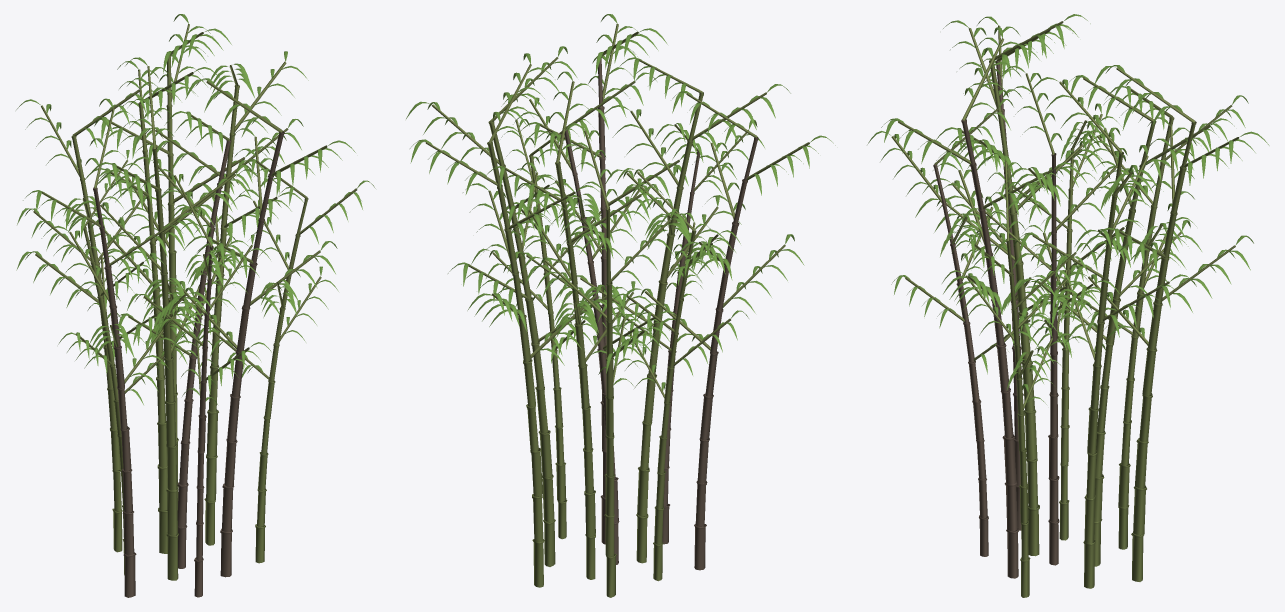
The model's file is Brush Bamboo.glb.
3 views of the same model, side by side, from view 1: azimuth 30°, elevation 25°; view 2: azimuth 150°, elevation 25°; view 3: azimuth 270°, elevation 25° (orthographic). The views are drawn at different scales.
Visible parts, largest first — view 1: Brush Bamboo; view 2: Brush Bamboo; view 3: Brush Bamboo.
Part boxes in pixels (x1,y1,x2,y2): Brush Bamboo: [16, 14, 375, 597]; Brush Bamboo: [406, 14, 835, 597]; Brush Bamboo: [867, 14, 1269, 597].
Size of the model in its own units: 3.89 by 5.59 by 3.85.
